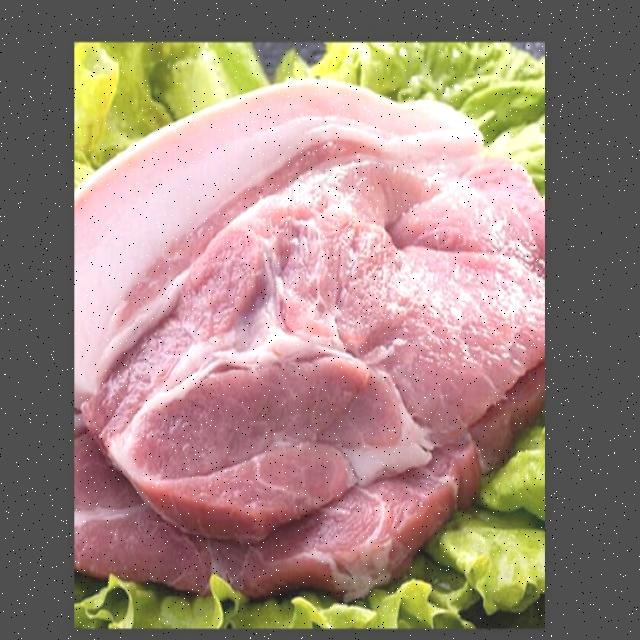meat: (79, 86, 542, 582)
